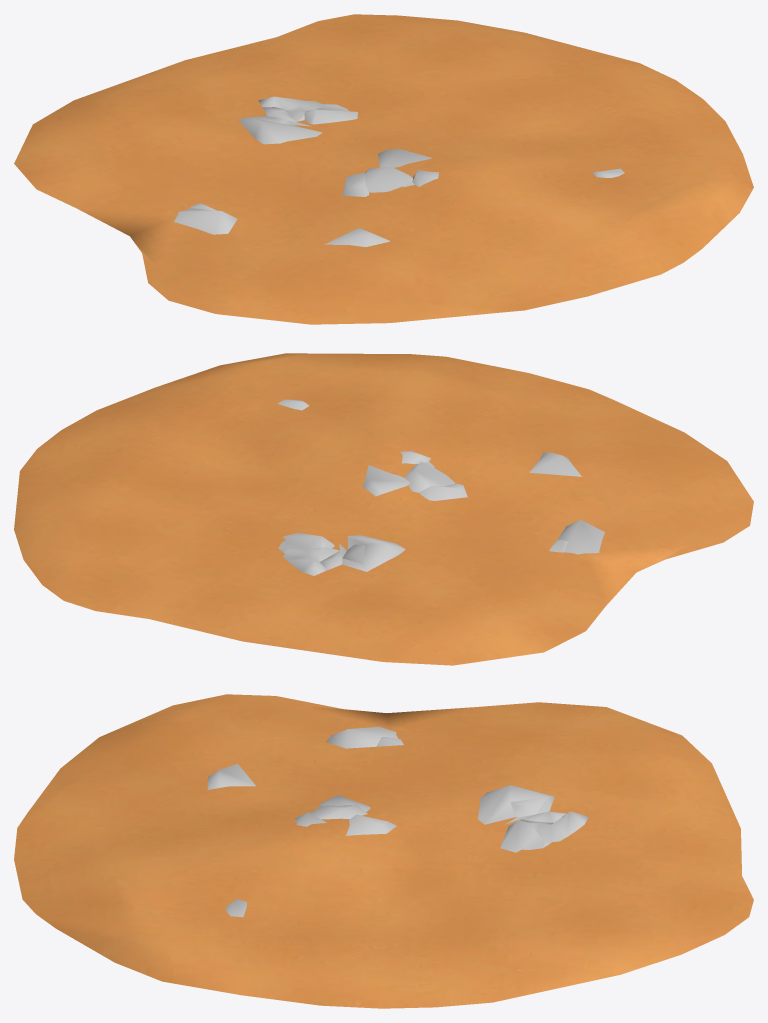
3 renders of one model, top to bottom at view 1: azimuth 30°, elevation 25°; view 2: azimuth 150°, elevation 25°; view 3: azimuth 270°, elevation 25°, orthographic. The views are drawn at different scales.
Parts seen in each view (by area): view 1: SM_Vault_Sand_Pile_01_V4_LOD0; view 2: SM_Vault_Sand_Pile_01_V4_LOD0; view 3: SM_Vault_Sand_Pile_01_V4_LOD0.
Part boxes in pixels (box(x1,y1,x2,y2)): SM_Vault_Sand_Pile_01_V4_LOD0: box(14, 14, 753, 324); SM_Vault_Sand_Pile_01_V4_LOD0: box(14, 353, 753, 665); SM_Vault_Sand_Pile_01_V4_LOD0: box(14, 694, 753, 1008).
Size of the model in its own units: 2.84 by 0.1293 by 2.83.
